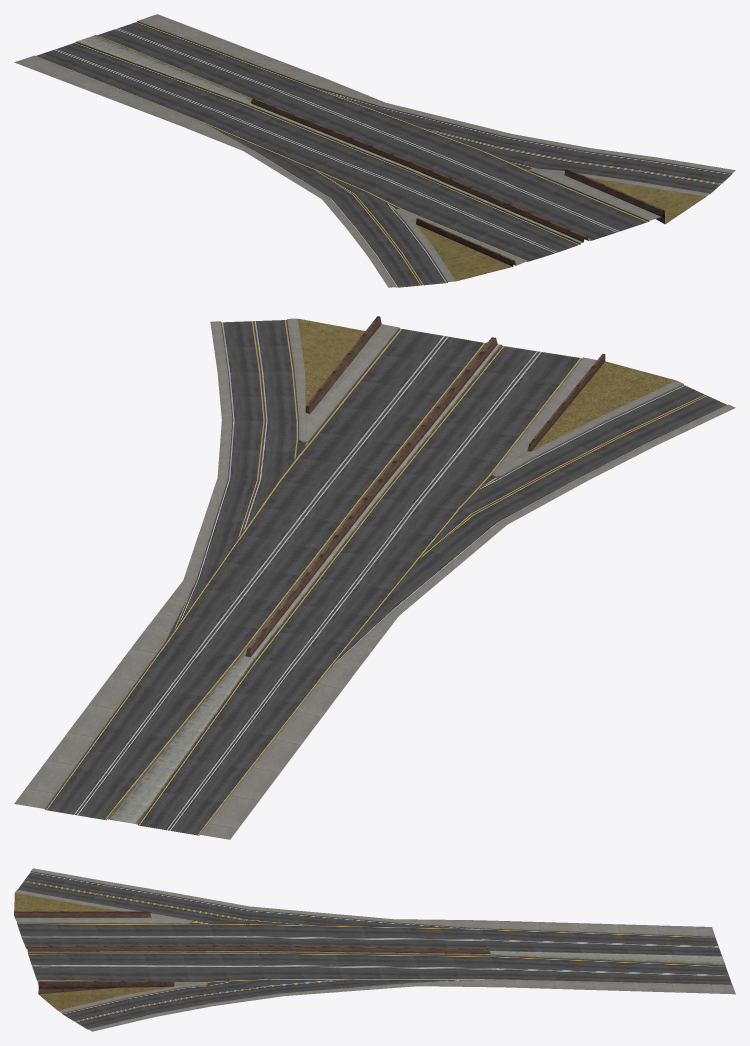
Rendered from freeway1_lan2.obj.
3 renders of one model, top to bottom at view 1: azimuth 30°, elevation 25°; view 2: azimuth 150°, elevation 25°; view 3: azimuth 270°, elevation 25°, orthographic. The views are drawn at different scales.
Visible parts, largest first — view 1: Freeway1_LAn2; view 2: Freeway1_LAn2; view 3: Freeway1_LAn2.
Part boxes in pixels (x1,y1,x2,y2): Freeway1_LAn2: [14, 14, 735, 287]; Freeway1_LAn2: [14, 316, 735, 839]; Freeway1_LAn2: [14, 868, 735, 1031].
Size of the model in its own units: 84.02 by 14.42 by 157.
